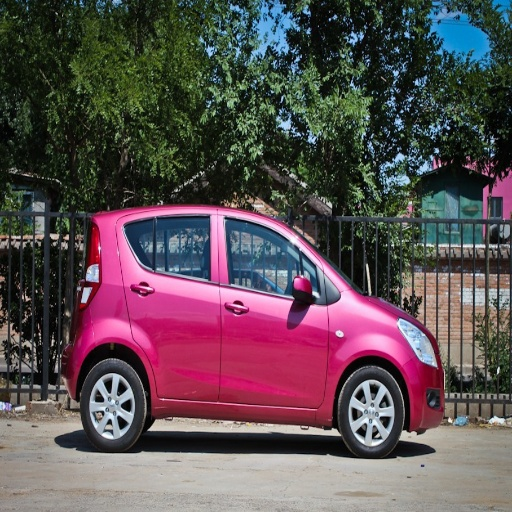back_right_door: (125, 212, 218, 401)
front_right_door: (219, 212, 329, 407)
